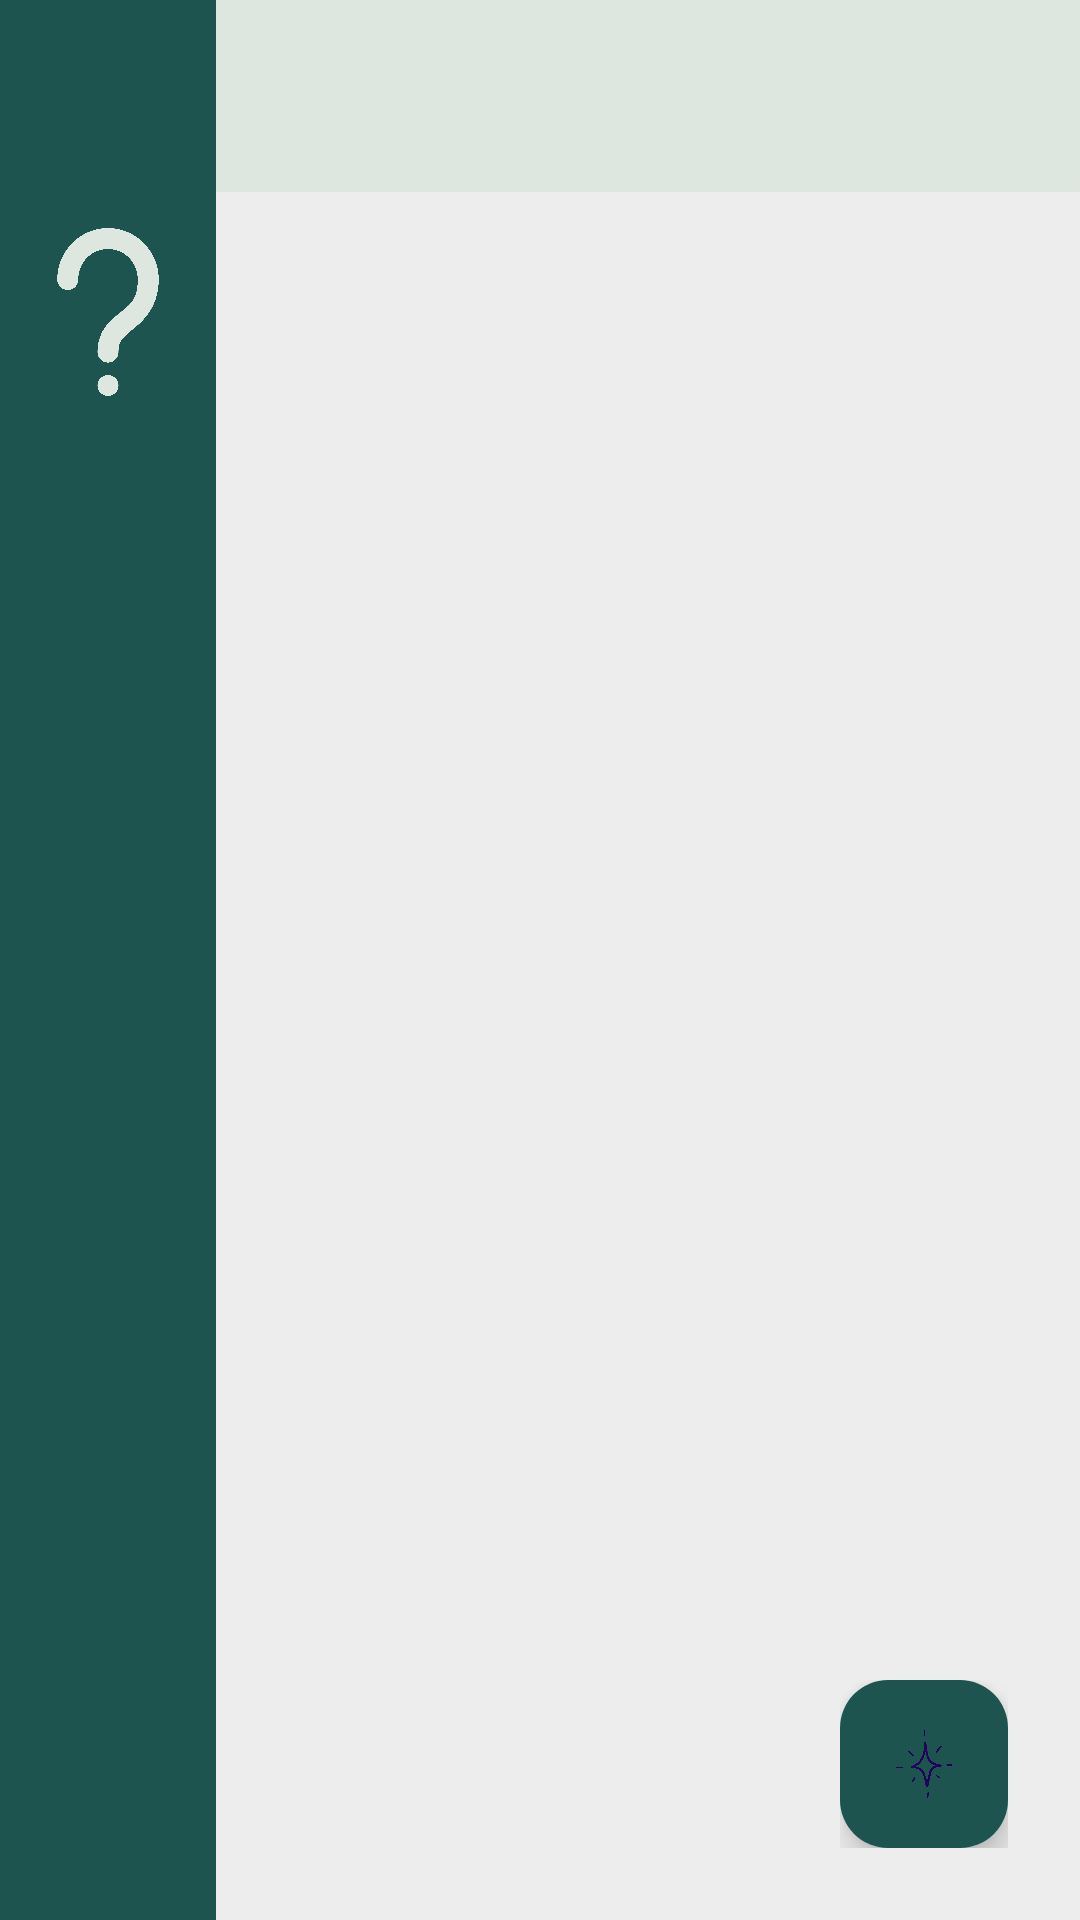

Icon click points for this 1080w x 1920h phone screenshot, format point (x, y):
Help: point (108, 312)
magic: point (924, 1764)
